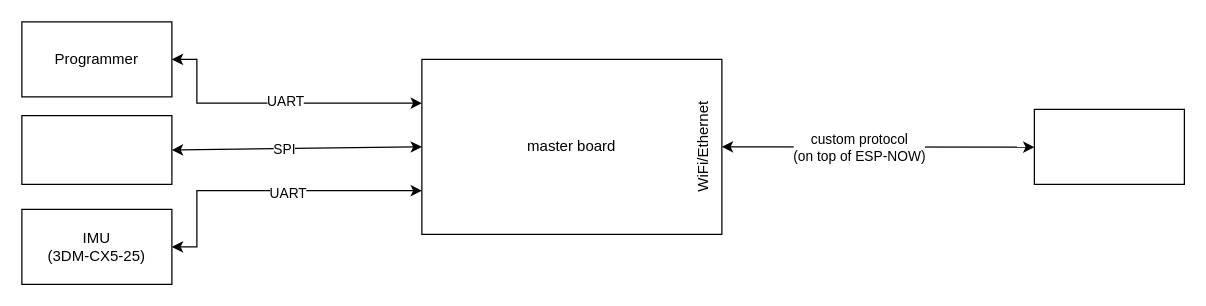
Some shapes in this 1206 by 306 pixel diagram are drawn without their labels. The shapes that lost their labels are listed below. From the top down, each one's centre as x and y in pixels, then its label:
(x=96, y=149): µDriver
(x=1108, y=146): Computer
